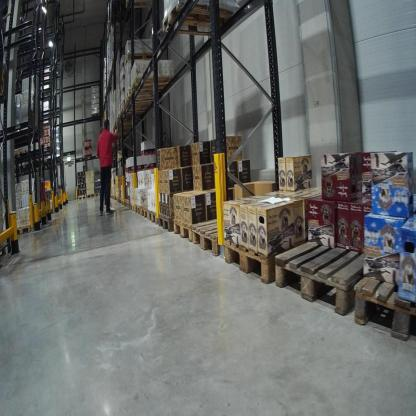pallet: (275, 210, 380, 314), (223, 210, 346, 283), (355, 253, 415, 345), (192, 199, 281, 255), (162, 5, 234, 38), (158, 201, 198, 232), (171, 213, 197, 247), (123, 89, 167, 102), (125, 52, 157, 67), (13, 221, 36, 239), (118, 106, 151, 118), (142, 200, 154, 222), (122, 2, 153, 10), (13, 145, 32, 158), (149, 207, 160, 225), (136, 201, 142, 217), (77, 194, 87, 201), (86, 192, 95, 199), (131, 198, 136, 210), (111, 194, 118, 201), (134, 203, 137, 215), (95, 192, 100, 196)
